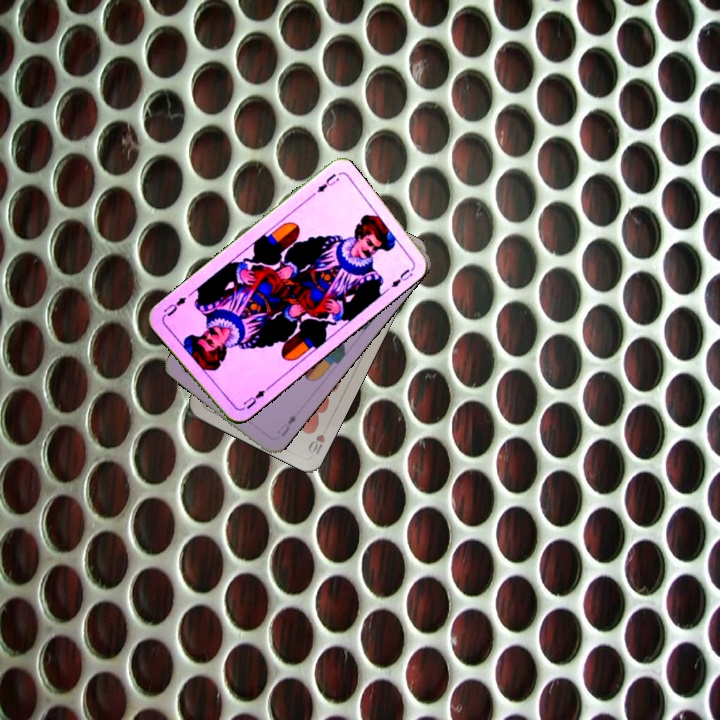EU: (237, 383, 272, 413), (313, 169, 342, 195), (275, 410, 299, 439)
H10: (304, 420, 331, 457)
